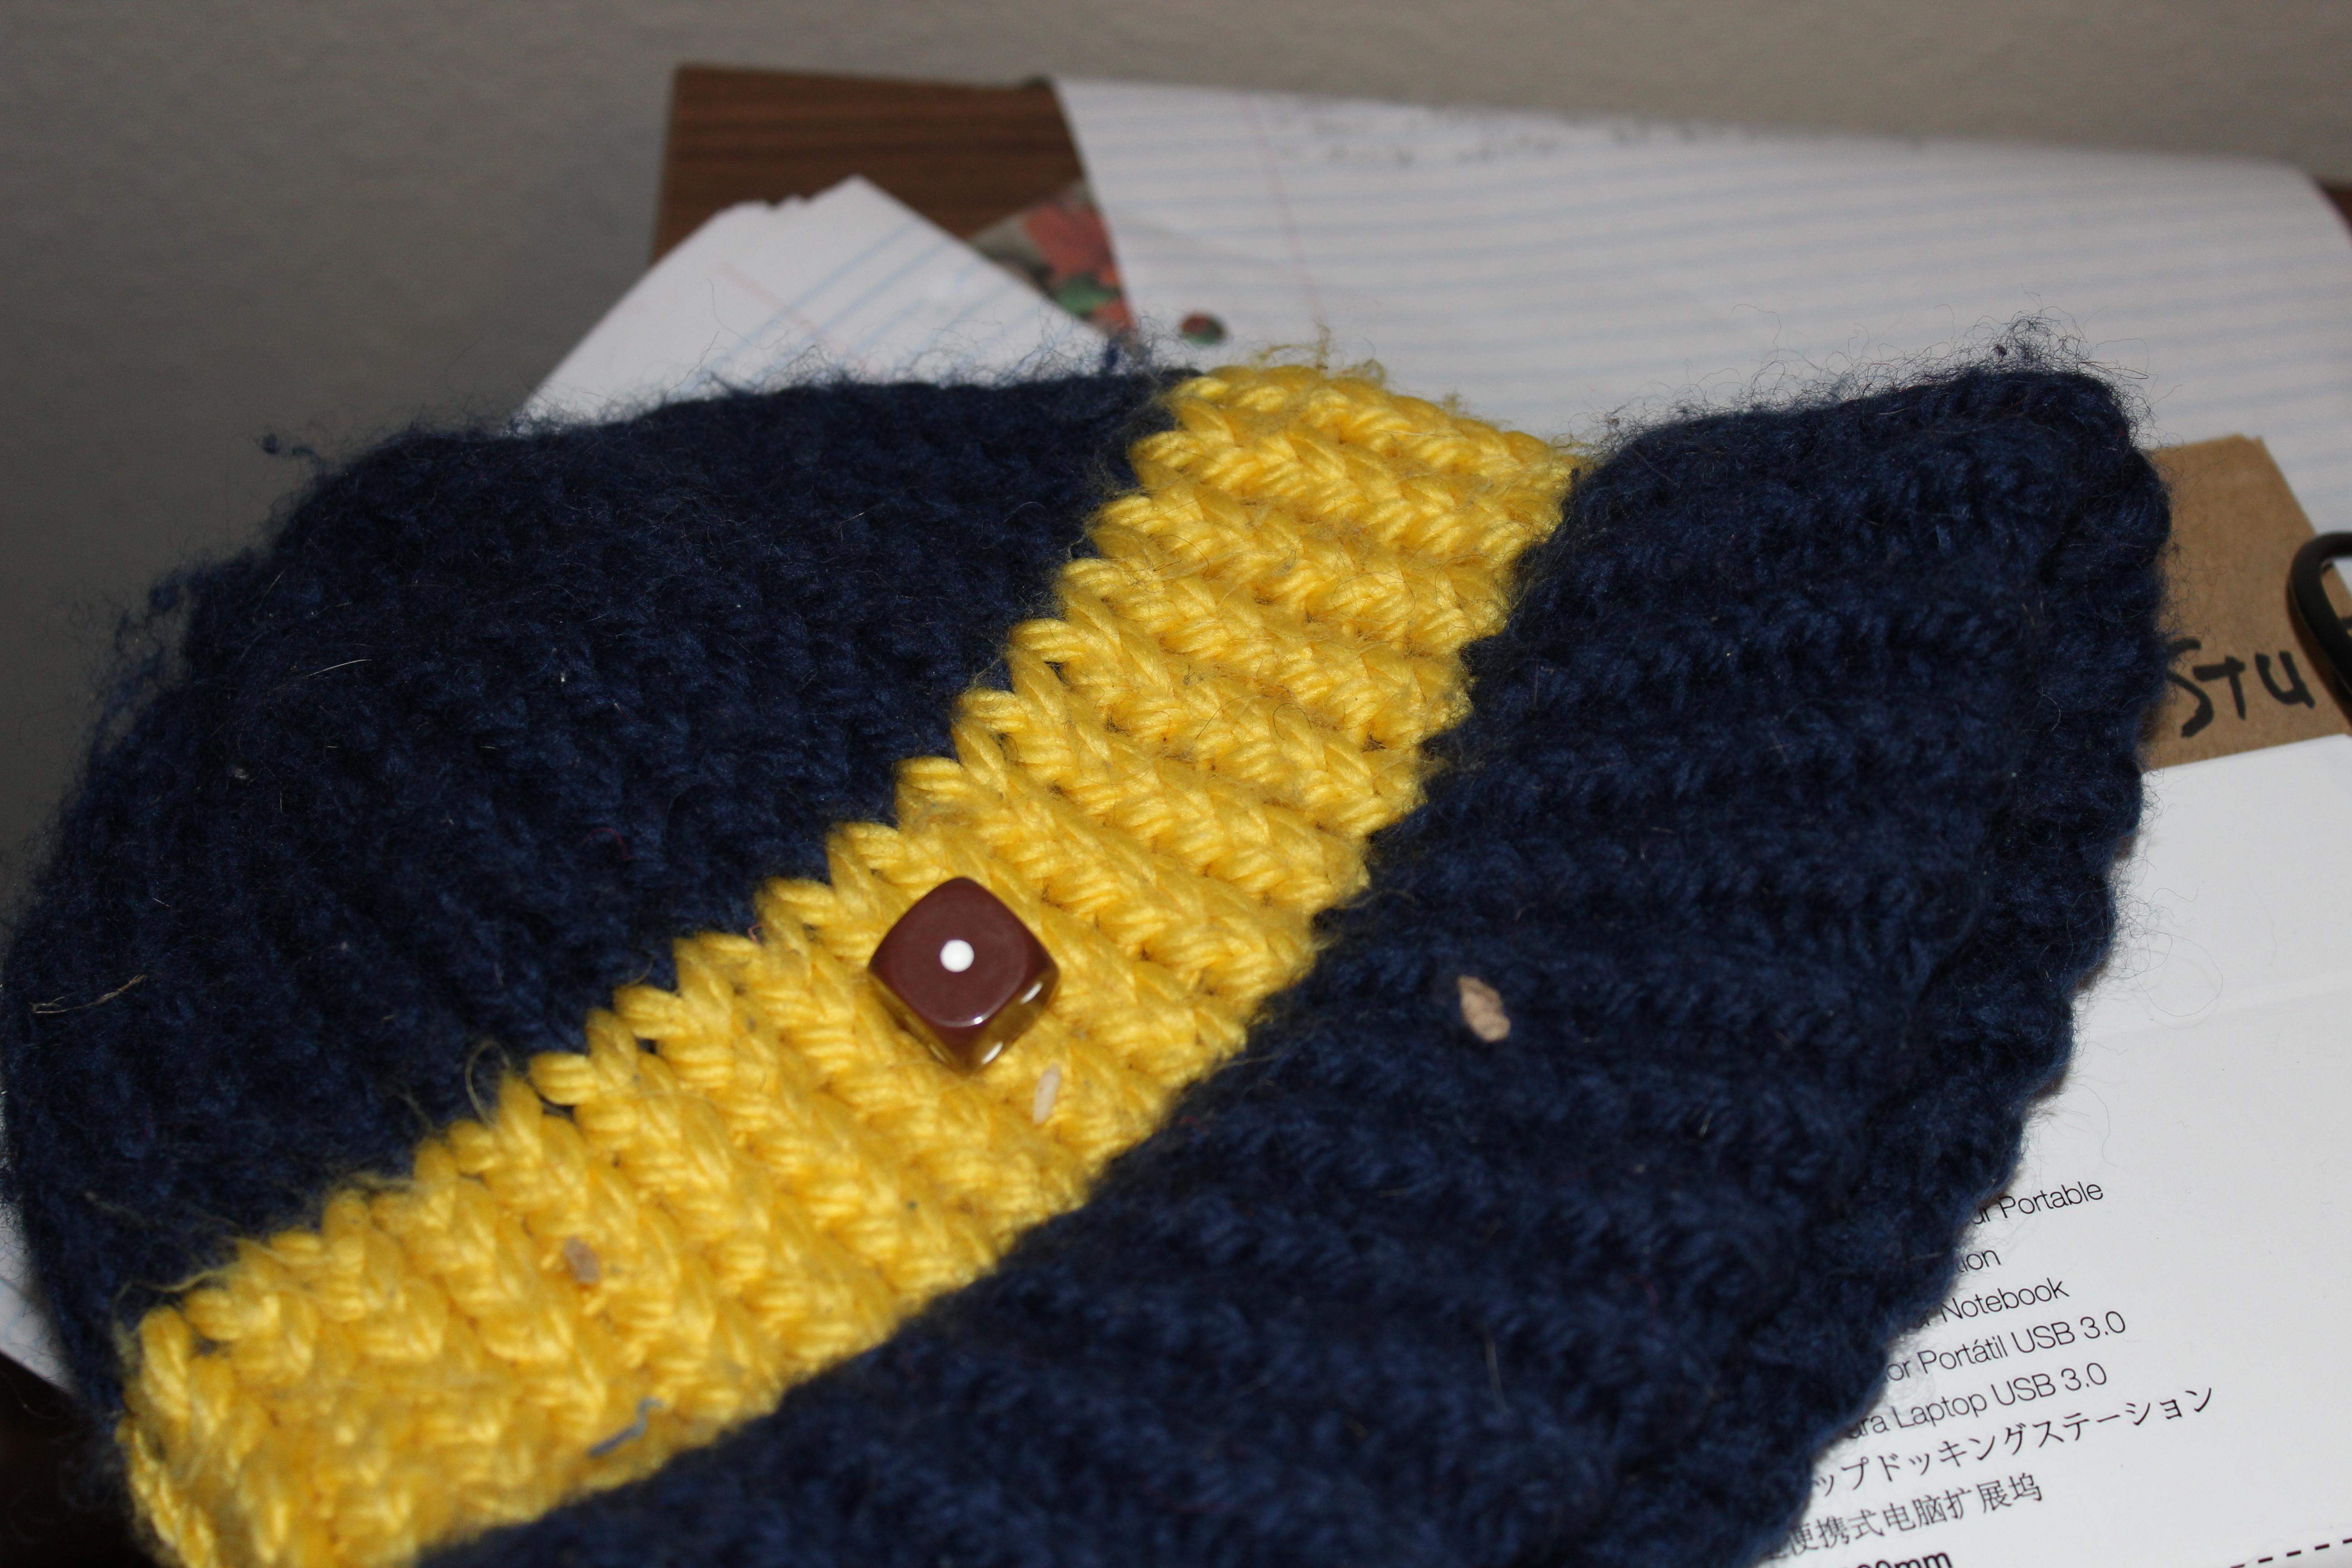brownDie: (829, 856, 1094, 1102)
